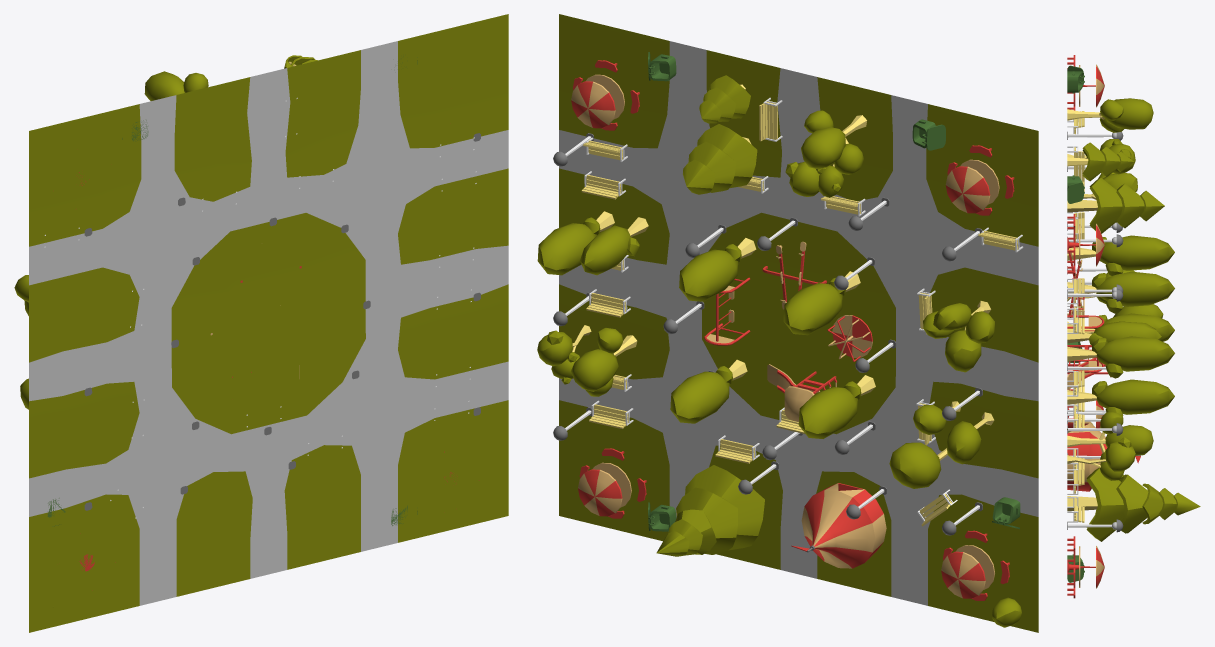
The model's file is Park02.fbx.
3 renders of one model, left to right at view 1: azimuth 30°, elevation 25°; view 2: azimuth 150°, elevation 25°; view 3: azimuth 270°, elevation 25°, orthographic. The views are drawn at different scales.
Visible parts, largest first — view 1: Park03; view 2: Park03; view 3: Park03.
Boxes of the visible parts, x1,y1,x2,y2 form: Park03: (14,14,508,632); Park03: (537,14,1038,632); Park03: (1067,55,1200,598).
Size of the model in its own units: 3200 by 3200 by 920.
